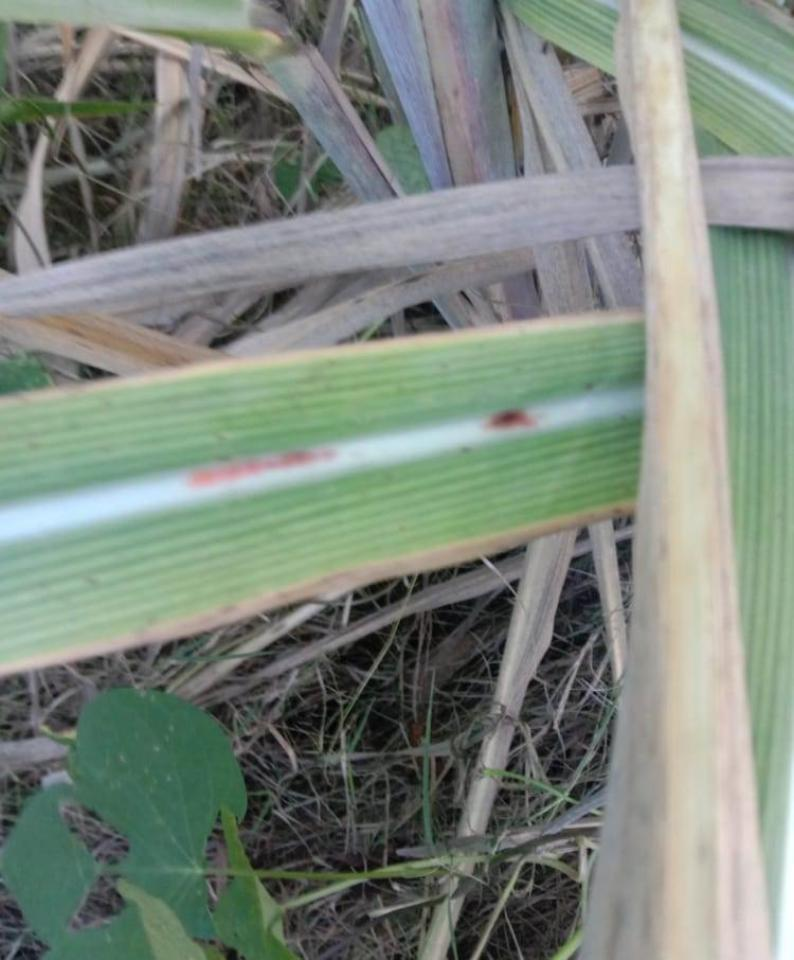RedRot: (181, 444, 346, 493), (479, 405, 540, 431)
